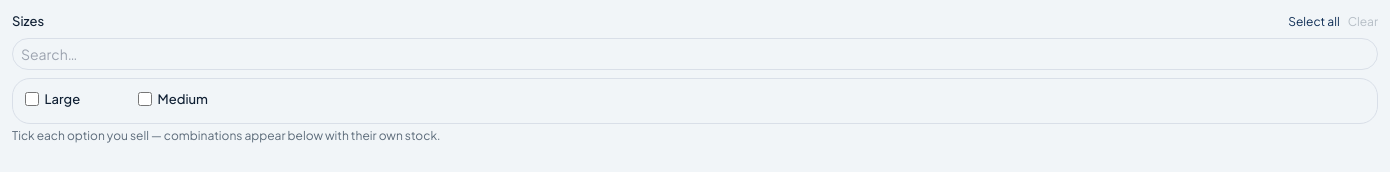
VariantAttributeChecklist › filters items by search
Type "med" into the field named "Sizes search". click: (695, 54)
box: left=12, top=38, right=1378, bottom=70
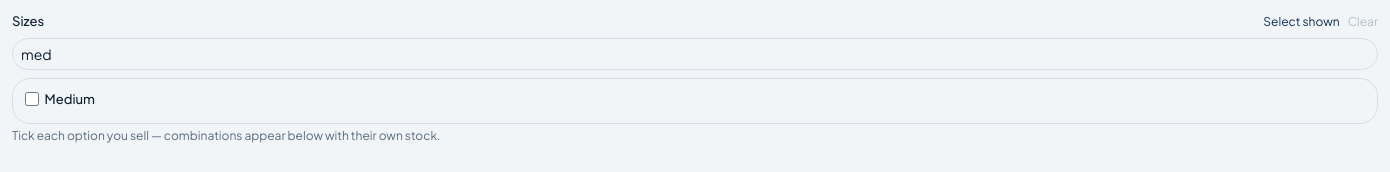
expect the checkbox labelled "Medium" is shown: met, box left=25, top=92, right=39, bottom=106
expect the text labelled "Large" is gone: met
